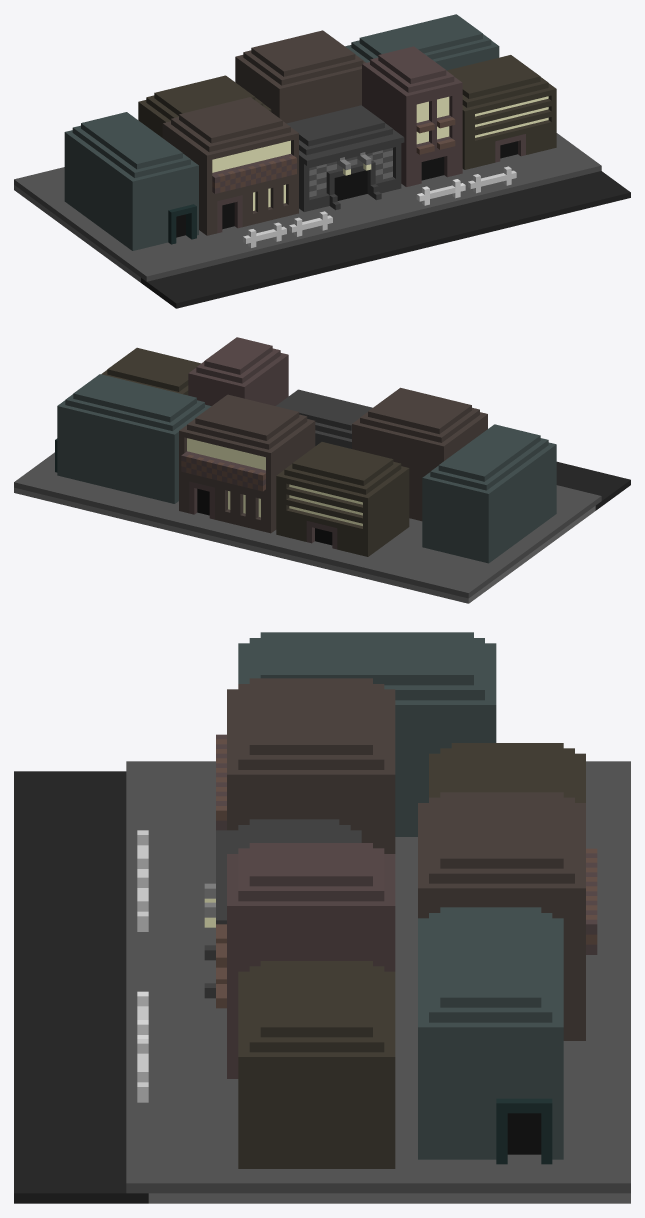
Rendered from stageTitle.obj.
3 views of the same model, one above another, from view 1: azimuth 30°, elevation 25°; view 2: azimuth 150°, elevation 25°; view 3: azimuth 270°, elevation 25° (orthographic). The views are drawn at different scales.
Parts seen in each view (by area): view 1: Untitled; view 2: Untitled; view 3: Untitled.
Boxes of the visible parts, x1,y1,x2,y2 form: Untitled: (14,14,630,308); Untitled: (14,337,630,603); Untitled: (14,632,630,1203).
Size of the model in its own units: 35.6 by 8.4 by 22.
1 material, 1 textured.
